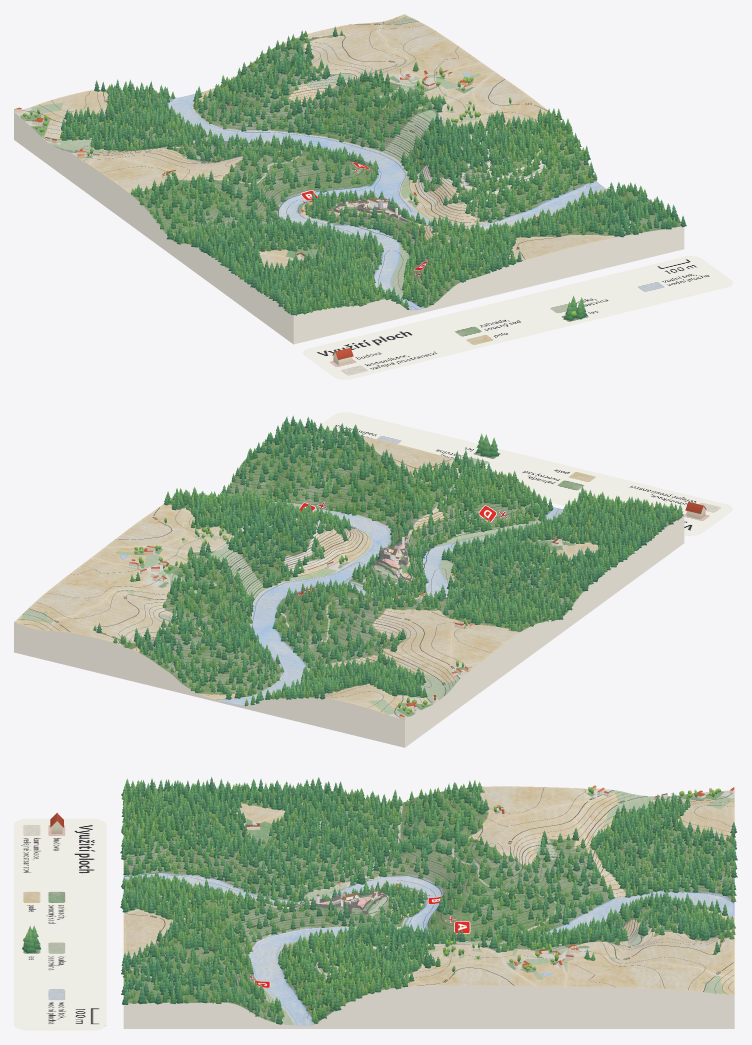
The model's file is Zvikov_sada3_otazka1.glb.
3 views of the same model, one above another, from view 1: azimuth 30°, elevation 25°; view 2: azimuth 150°, elevation 25°; view 3: azimuth 270°, elevation 25° (orthographic). The views are drawn at different scales.
Parts seen in each view (by area): view 1: DMR_1953, Zvikov_stromy_body_SMO5, legenda_panel, vrstevnice, Zvikov_SMO5_budovy, Node0, legenda_objekty; view 2: DMR_1953, Zvikov_stromy_body_SMO5, legenda_panel, vrstevnice, Zvikov_SMO5_budovy, Node0, legenda_objekty; view 3: Zvikov_stromy_body_SMO5, DMR_1953, legenda_panel, vrstevnice, Zvikov_SMO5_budovy, Node0, legenda_objekty.
Boxes of the visible parts, x1,y1,x2,y2 form: DMR_1953: (14,14,684,344); Zvikov_stromy_body_SMO5: (23,26,686,315); legenda_panel: (303,256,732,379); vrstevnice: (22,16,678,309); Zvikov_SMO5_budovy: (14,70,471,258); Node0: (328,197,411,222); legenda_objekty: (332,295,587,365); DMR_1953: (14,425,684,747); Zvikov_stromy_body_SMO5: (93,415,683,714); legenda_panel: (316,412,732,535); vrstevnice: (19,430,624,716); Zvikov_SMO5_budovy: (129,538,561,719); Node0: (373,535,411,583); legenda_objekty: (476,433,706,519); Zvikov_stromy_body_SMO5: (120,777,737,1024); DMR_1953: (123,786,734,1028); legenda_panel: (14,818,106,1030); vrstevnice: (124,787,733,1023); Zvikov_SMO5_budovy: (246,785,734,968); Node0: (295,889,386,914); legenda_objekty: (22,813,63,953).
Bounding box in the file's own units: 1491 × 188 × 2151.
Materials: 11 (7 with a texture image).
